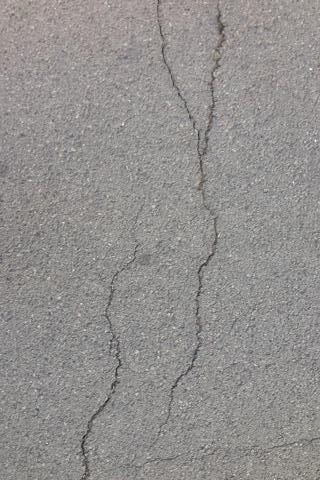A: (152, 1, 232, 426), (74, 210, 141, 480)
